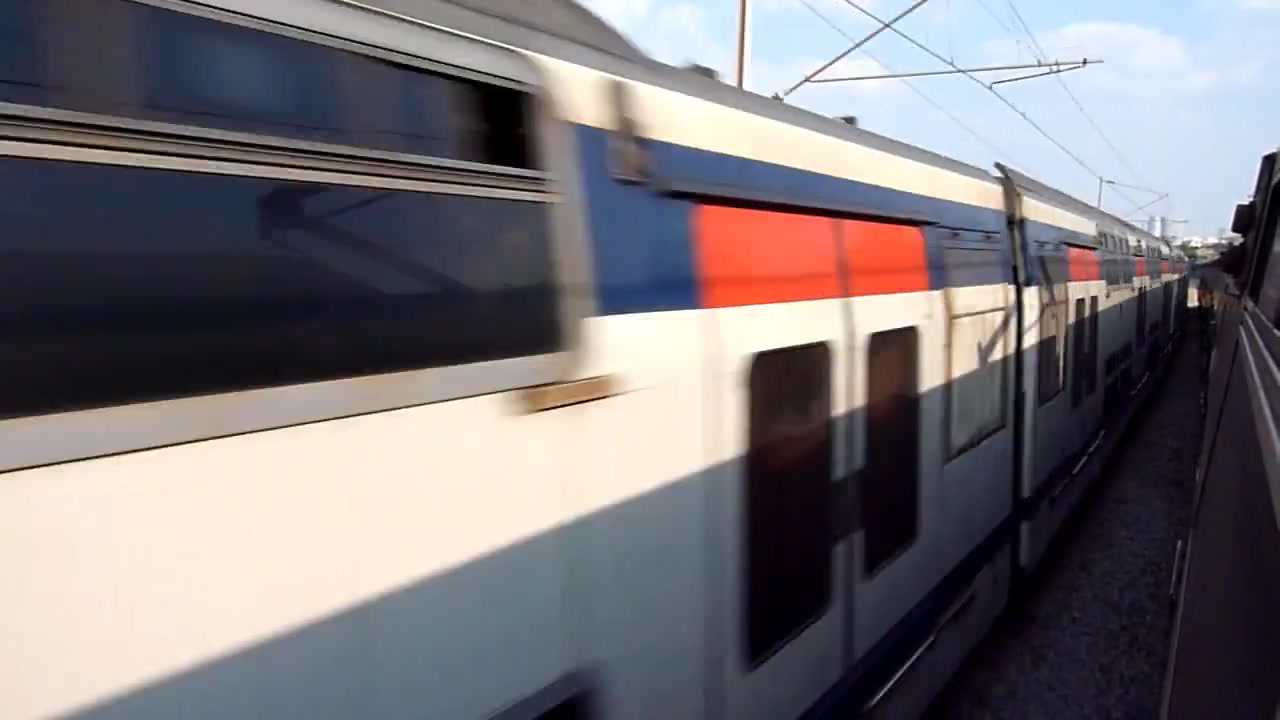train: (1, 1, 1201, 720)
